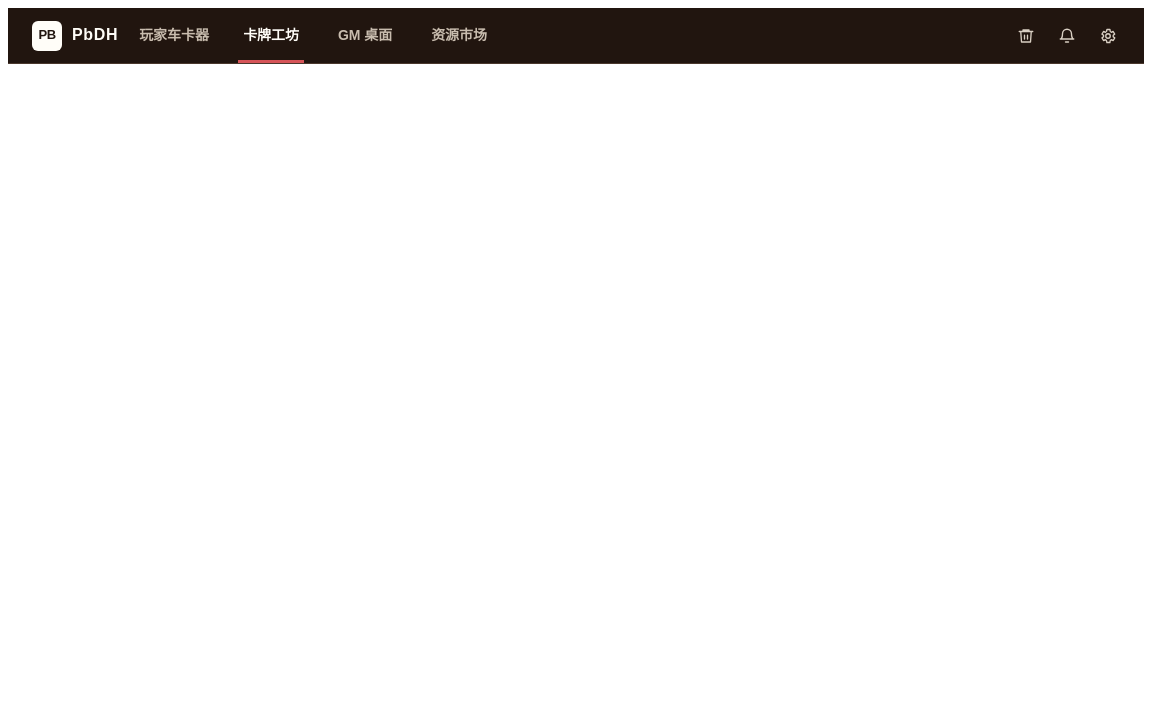
Scenario: 来源长时间不返回时显示超时提示并允许刷新
Click the button named "回收站".
click(1026, 36)  # box [1008,18,1044,52]
Wait 15000 ms
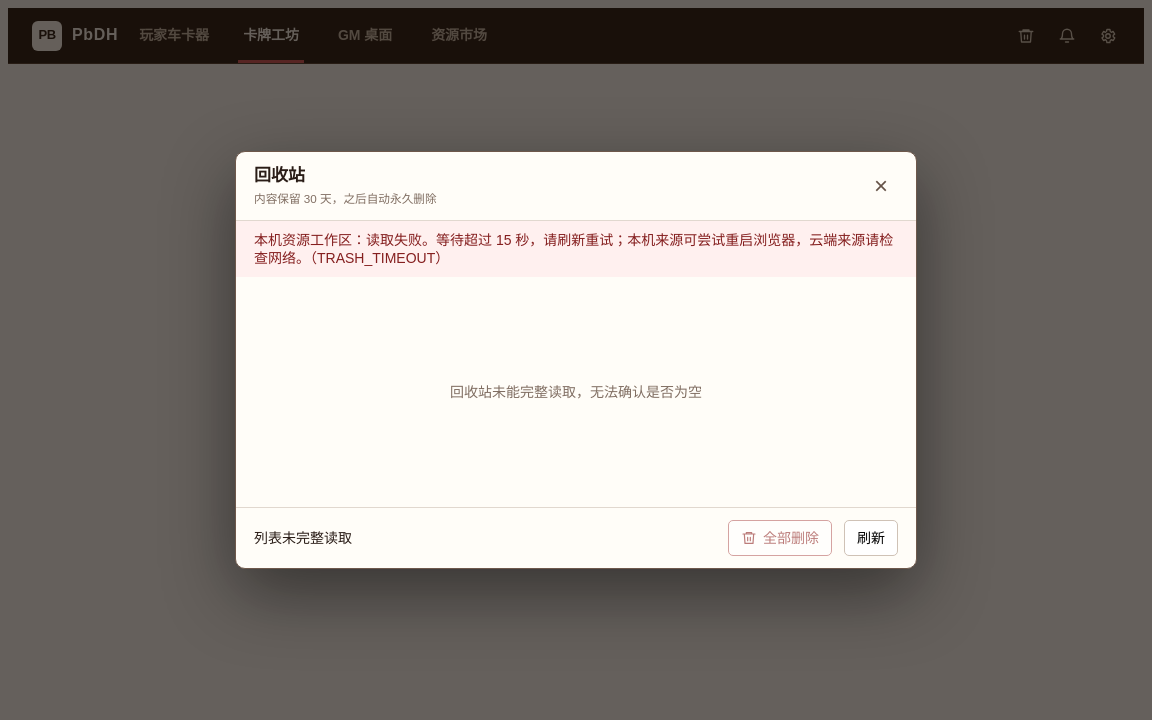
Expected: the text "TRASH_TIMEOUT" is shown, [254,232,893,266]
Expected: the button "刷新" is enabled, [844,520,898,556]
